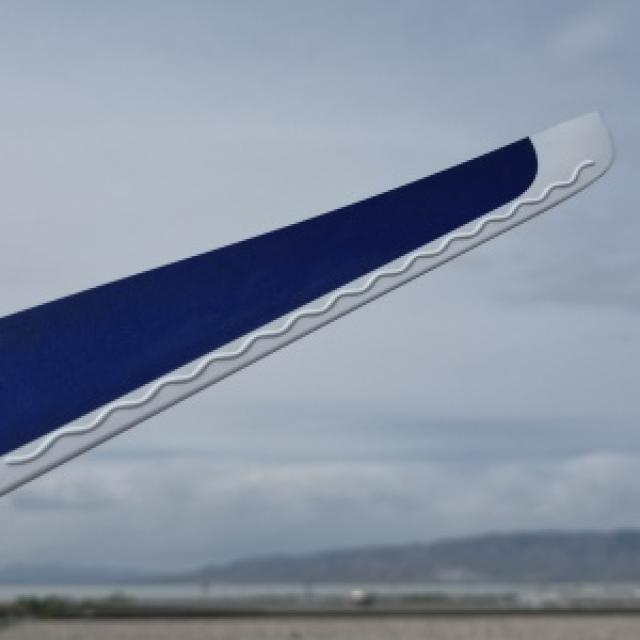healthy: (0, 113, 606, 491), (422, 294, 631, 363)
